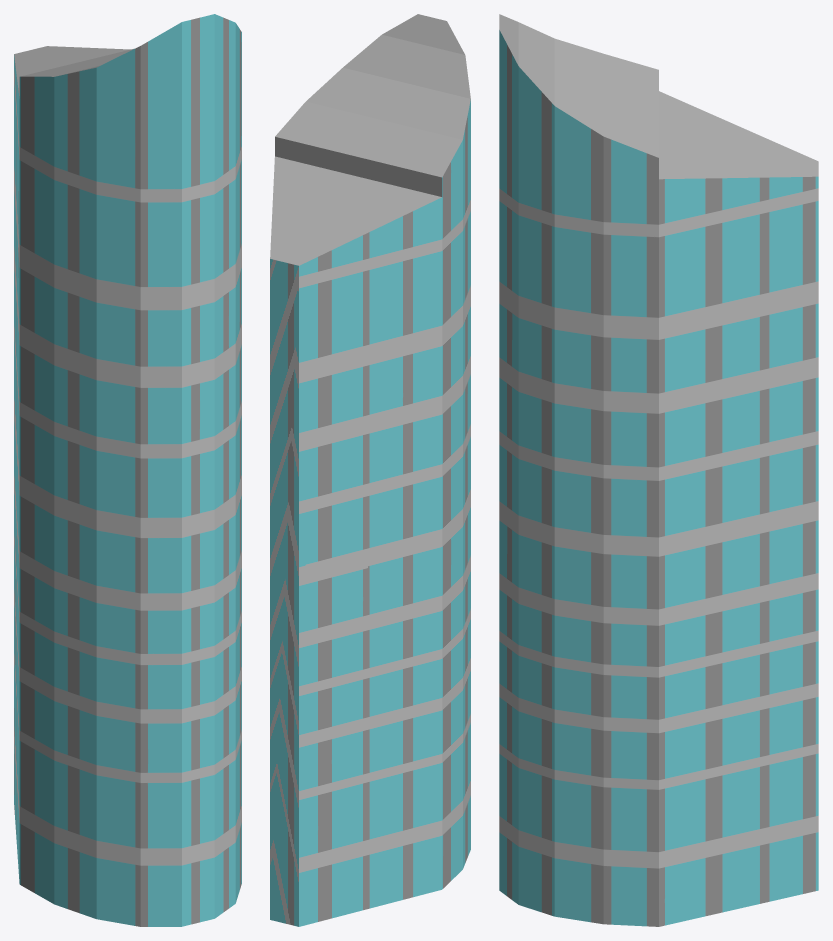
File: building3.FBX
The picture shows the model from 3 angles, left to right: view 1: azimuth 30°, elevation 25°; view 2: azimuth 150°, elevation 25°; view 3: azimuth 270°, elevation 25°; orthographic projection. The views are drawn at different scales.
Visible parts, largest first — view 1: Cylinder001; view 2: Cylinder001; view 3: Cylinder001.
Boxes of the visible parts, x1,y1,x2,y2 form: Cylinder001: (14,14,241,926); Cylinder001: (270,14,470,926); Cylinder001: (499,14,818,926).
Size of the model in its own units: 901 by 4102 by 1379.
1 material, 1 textured.
